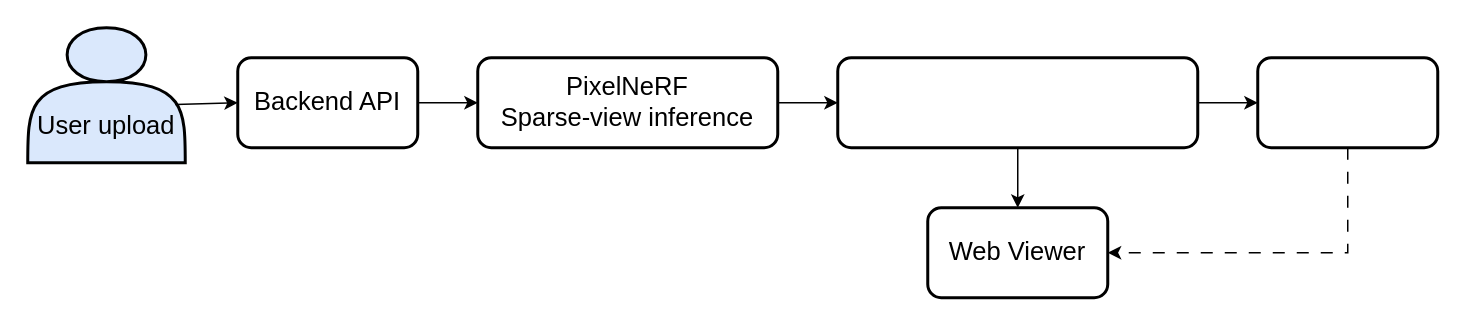
Image size: 1464x324. Some labels were removed from this diagram. Here are the shapes that lost their labels. From the top down, the box of each, then its label:
(836, 56, 1198, 148): Mesh generator(Marching Cubes
(1256, 56, 1438, 148): PLY / OBJ
